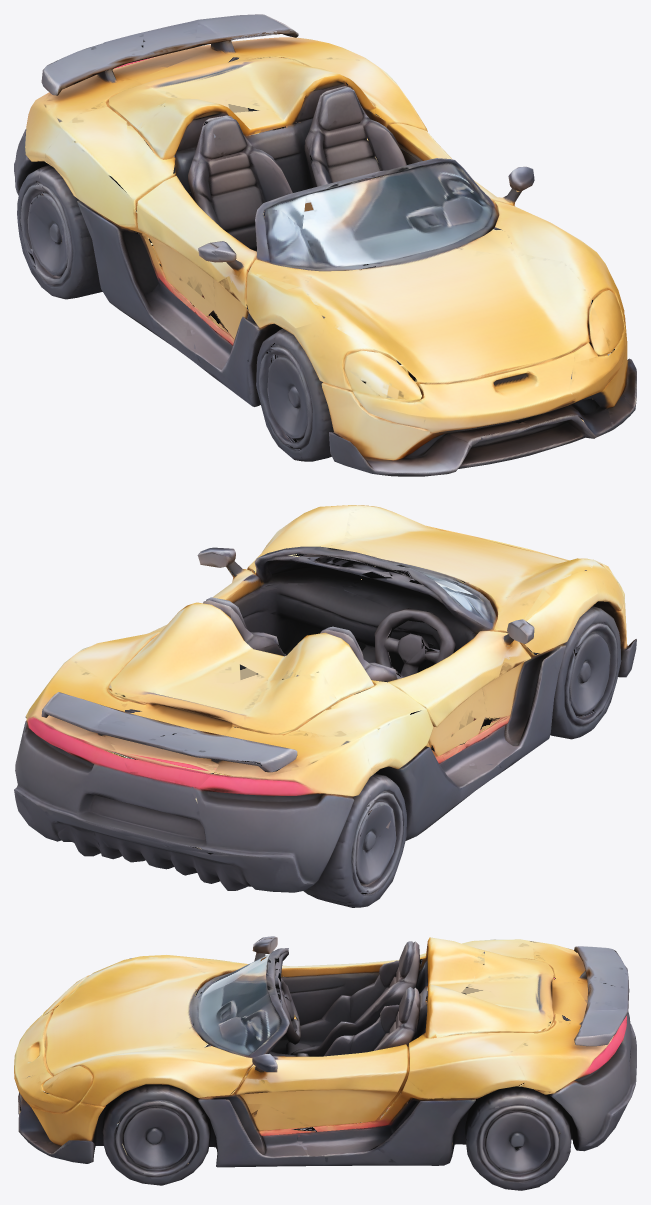
The model's file is bolt-mobile.glb.
3 views of the same model, one above another, from view 1: azimuth 30°, elevation 25°; view 2: azimuth 150°, elevation 25°; view 3: azimuth 270°, elevation 25° (orthographic). The views are drawn at different scales.
Visible parts, largest first — view 1: model; view 2: model; view 3: model.
Part boxes in pixels (x1=…): model: x1=14, y1=14, x2=636, y2=476; model: x1=14, y1=505, x2=636, y2=907; model: x1=14, y1=936, x2=636, y2=1190.
Size of the model in its own units: 0.9344 by 0.552 by 1.89.
1 material, 1 textured.
